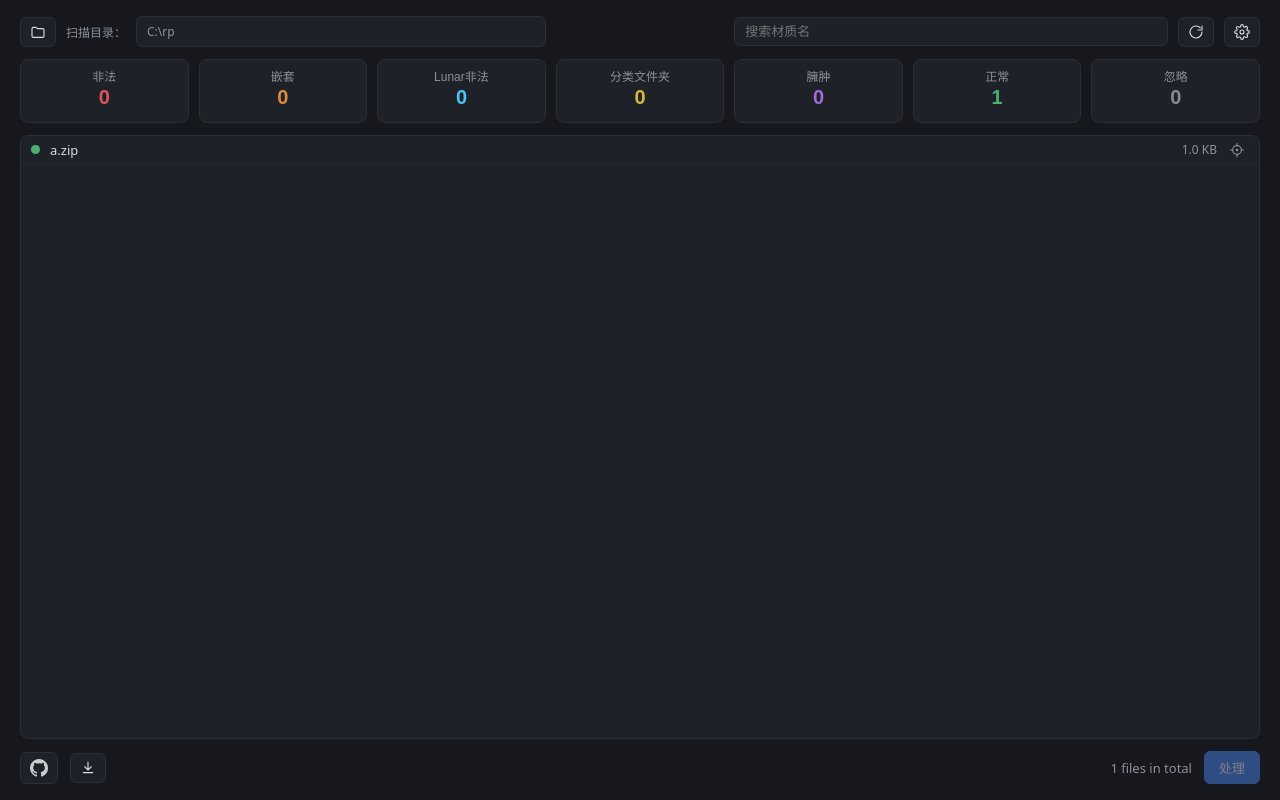
Scenario: manual check failure shows connection error dialog
Expected: the text "1 files in total" is shown, left=1110, top=758, right=1192, bottom=776
Click the button named "检测更新": point(88, 768) left=70, top=752, right=106, bottom=782
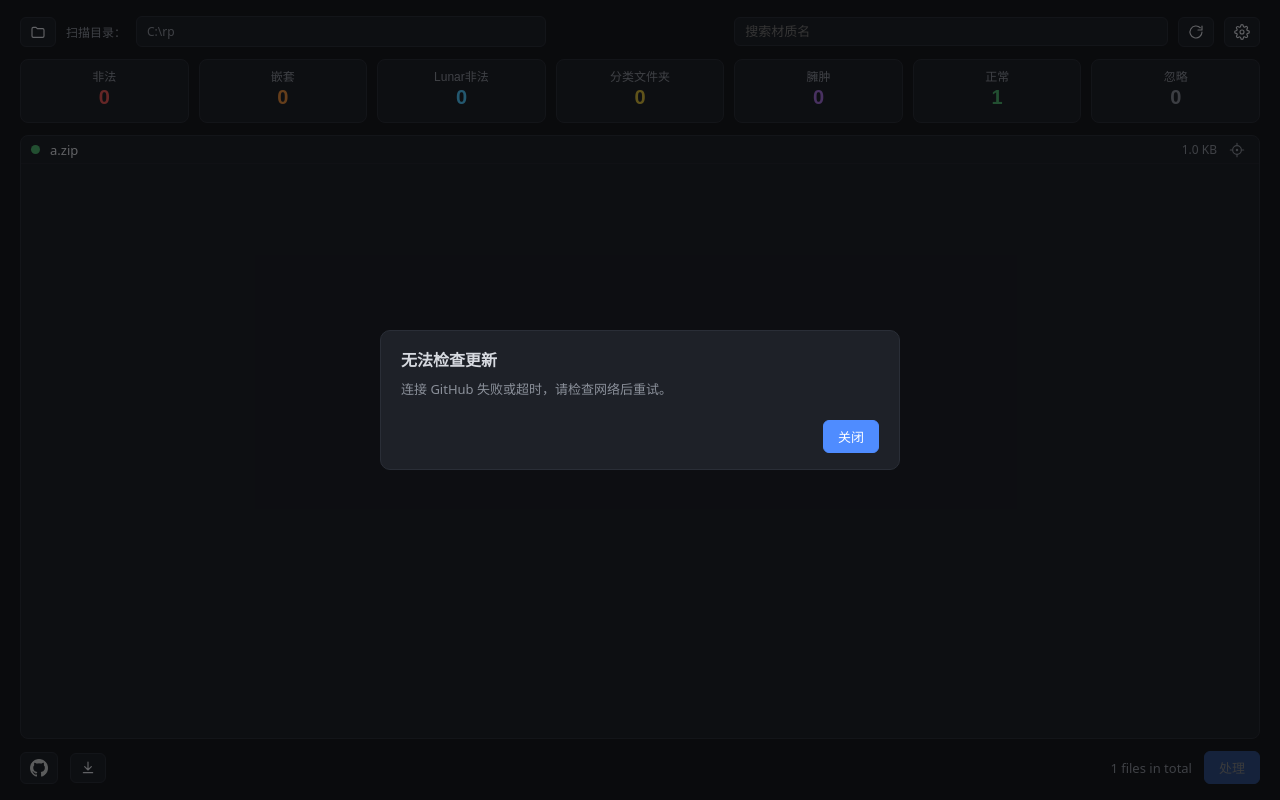
Expected: the dialog "无法检查更新" is shown, left=380, top=330, right=900, bottom=470
